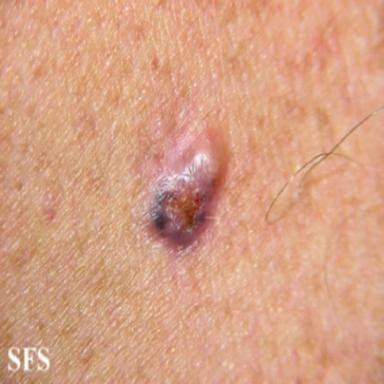basal-cell-carcinoma: (143, 121, 233, 249)
